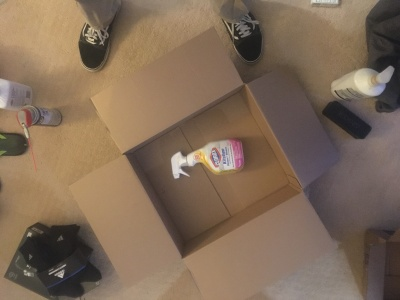innerbox: (143, 114, 279, 242)
outerbox: (81, 83, 322, 292)
product: (172, 139, 243, 178)
